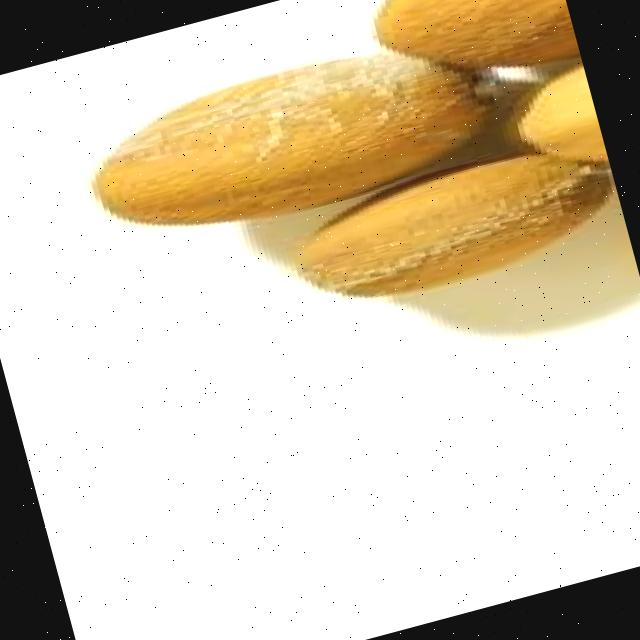overripe: (70, 21, 500, 266), (274, 129, 628, 322), (345, 0, 580, 109)
